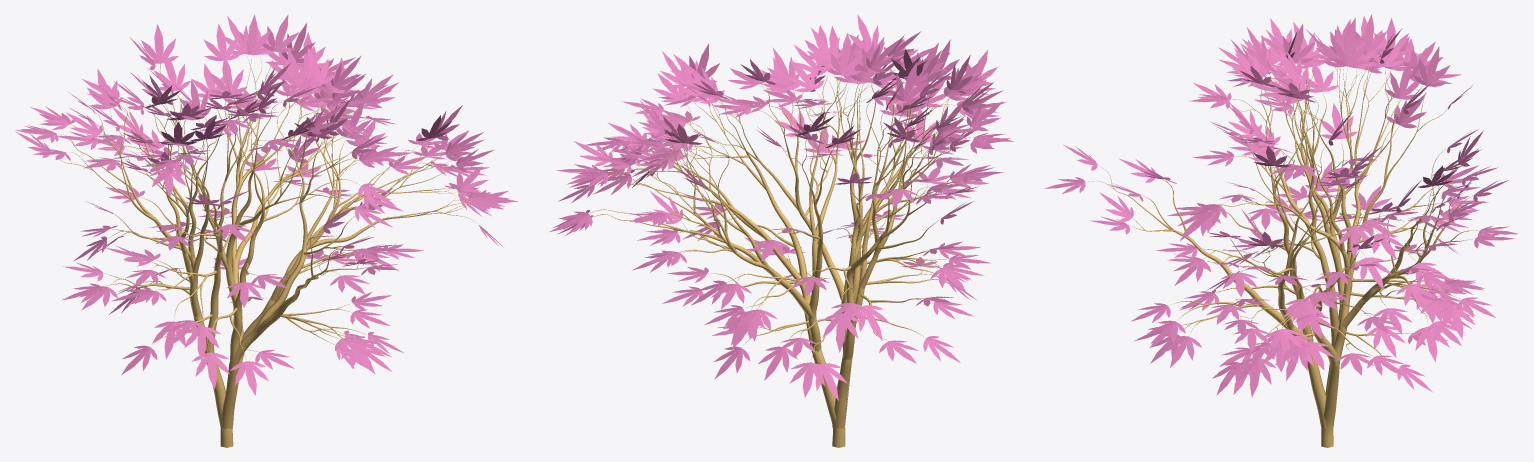
File: Japanese_Maple_3.glb
3 views of the same model, side by side, from view 1: azimuth 30°, elevation 25°; view 2: azimuth 150°, elevation 25°; view 3: azimuth 270°, elevation 25° (orthographic). The views are drawn at different scales.
Visible parts, largest first — view 1: leaves, tree; view 2: leaves, tree; view 3: leaves, tree.
Part boxes in pixels (x1,y1,x2,y2): leaves: (15,14,518,395); tree: (58,54,475,447); leaves: (549,14,1014,400); tree: (590,66,973,447); leaves: (1044,14,1518,397); tree: (1088,61,1477,447).
Bounding box in the file's own units: 11.9 × 10.11 × 11.19.
